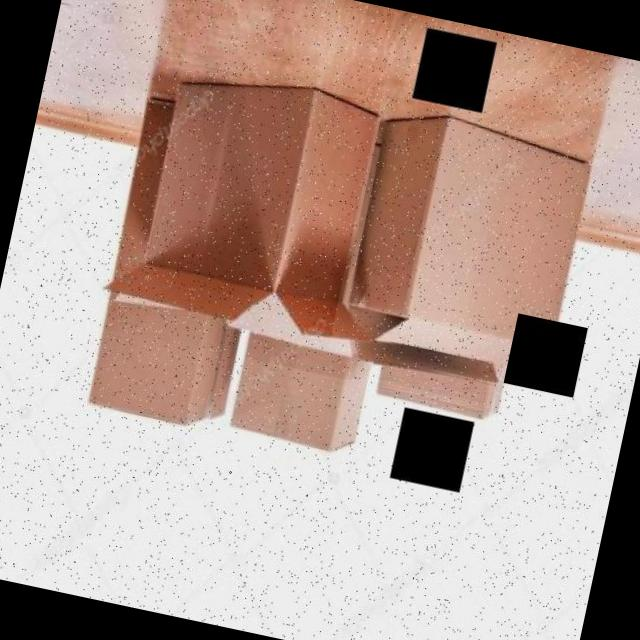box: (100, 56, 410, 382), (328, 82, 610, 396), (219, 320, 394, 486), (68, 286, 248, 436), (358, 340, 511, 457)
